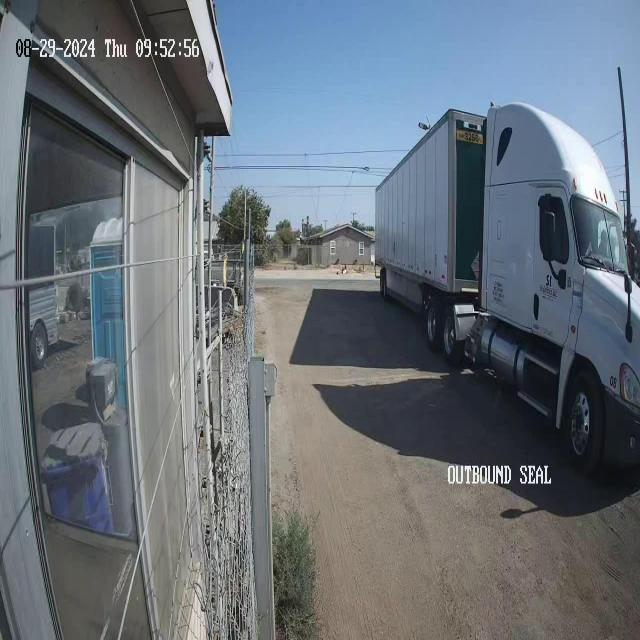TRUCK_CONTAINER: (373, 100, 639, 477)
